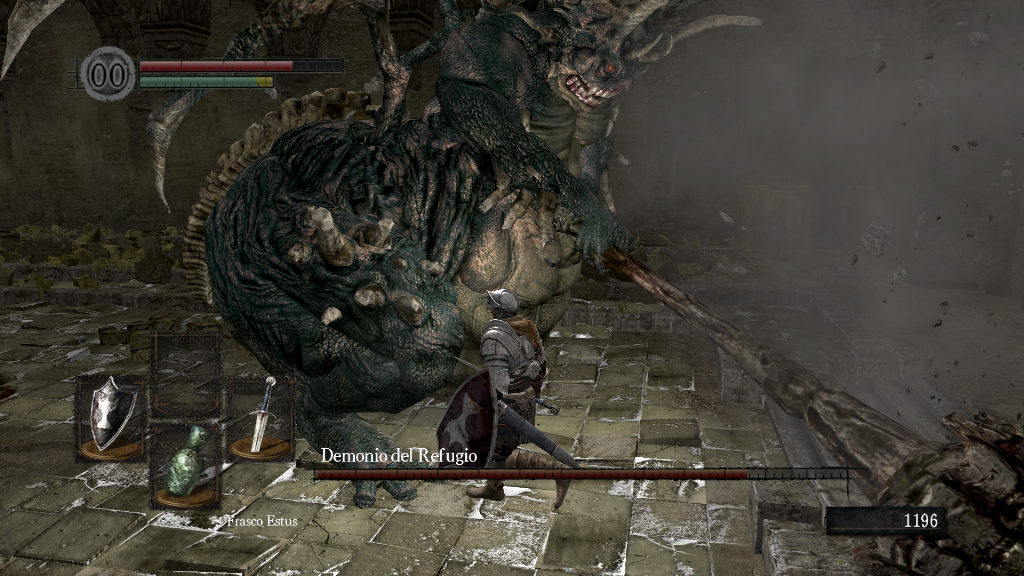asylumDemon: (143, 2, 763, 510)
bossHP: (314, 469, 847, 479)
health: (138, 58, 343, 71)
humanity: (80, 45, 136, 102)
player: (436, 290, 577, 511)
souls: (825, 506, 945, 536)
stamina: (138, 74, 274, 88)
